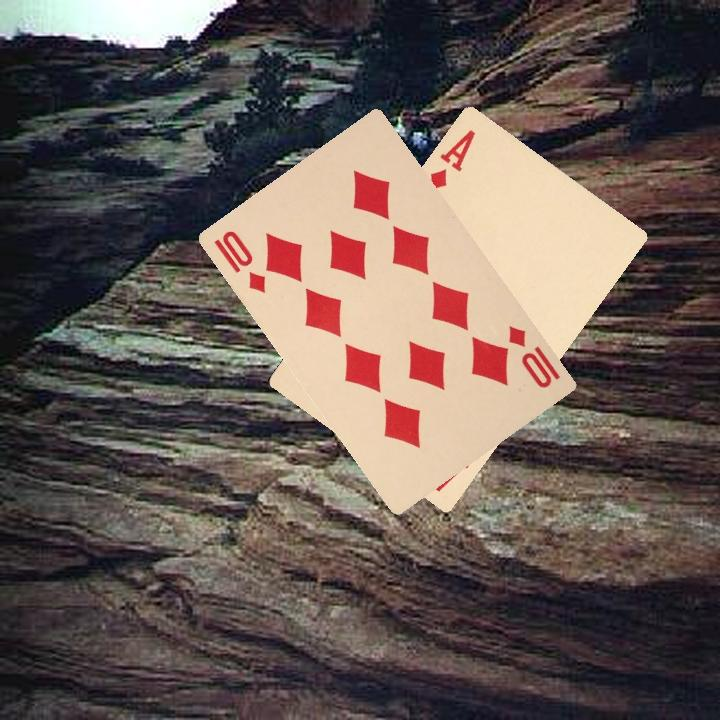10d: (210, 226, 269, 296), (504, 321, 563, 391)
Ad: (426, 125, 478, 192)
